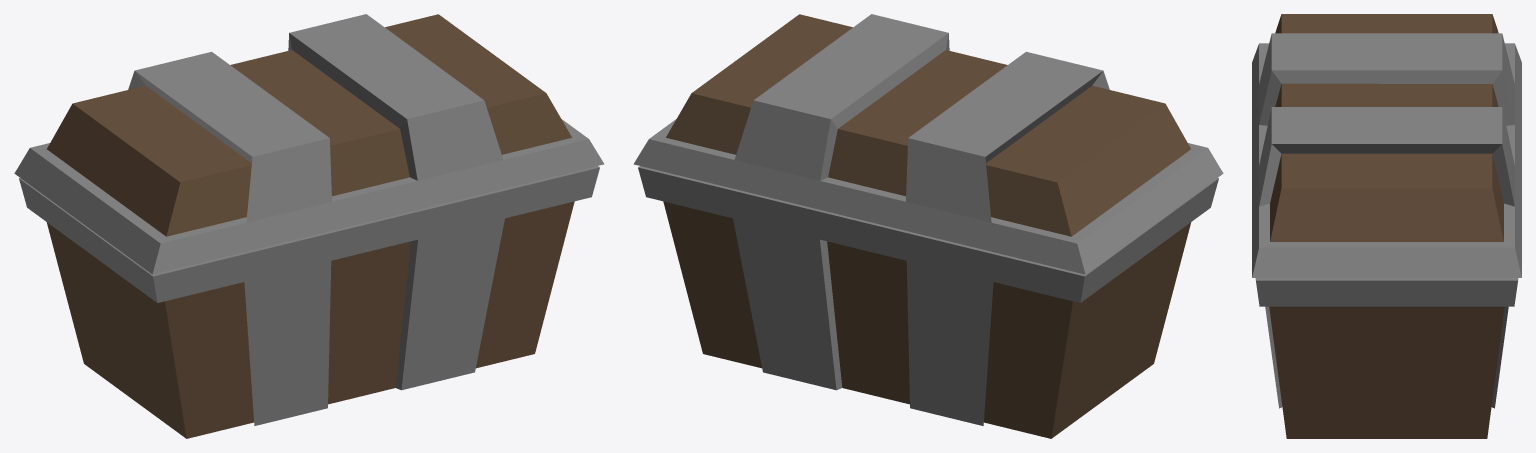
Rendered from coffre.fbx.
3 views of the same model, side by side, from view 1: azimuth 30°, elevation 25°; view 2: azimuth 150°, elevation 25°; view 3: azimuth 270°, elevation 25° (orthographic). The views are drawn at different scales.
Visible parts, largest first — view 1: haut, coffre; view 2: haut, coffre; view 3: haut, coffre.
Part boxes in pixels (x1=…): haut: x1=14, y1=14, x2=604, y2=274; coffre: x1=19, y1=166, x2=599, y2=438; haut: x1=633, y1=14, x2=1223, y2=274; coffre: x1=638, y1=166, x2=1218, y2=438; haut: x1=1252, y1=14, x2=1521, y2=277; coffre: x1=1255, y1=278, x2=1518, y2=438.
Bounding box in the file's own units: 5.09 × 2.94 × 2.69.
